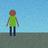person: (7, 10, 19, 36)
